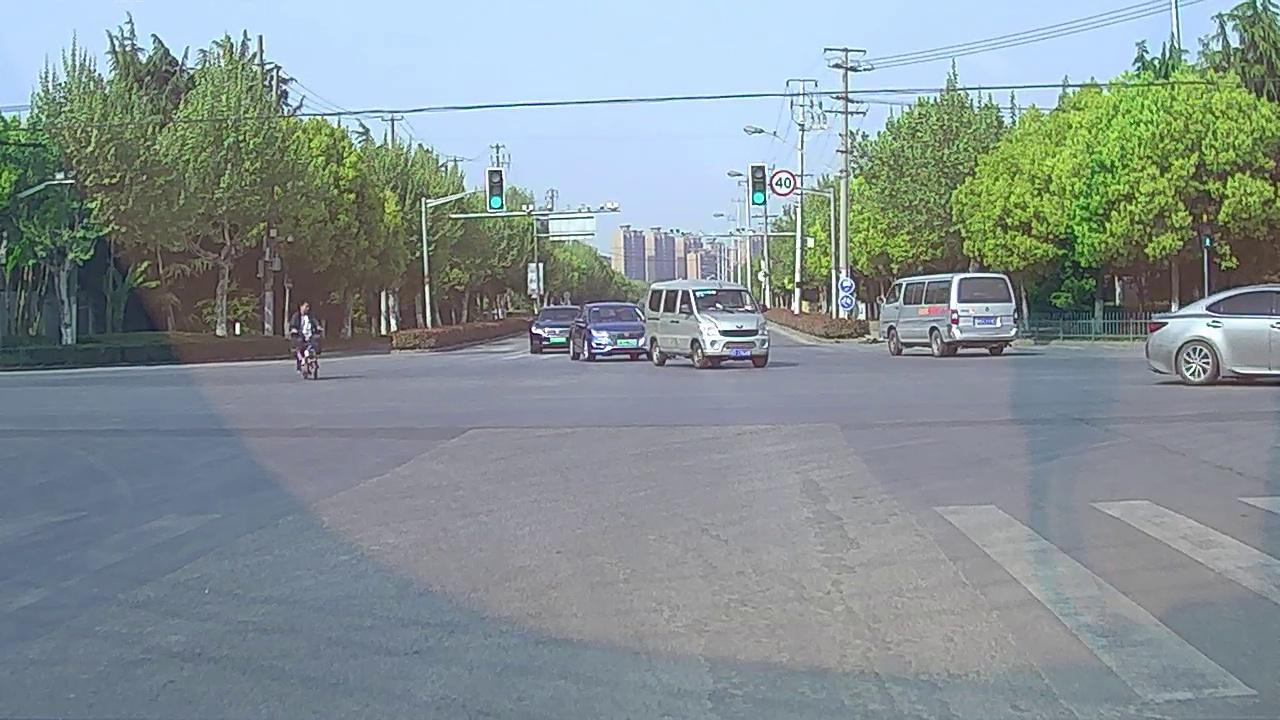traffic_light: (488, 170, 504, 209), (751, 165, 766, 203)
